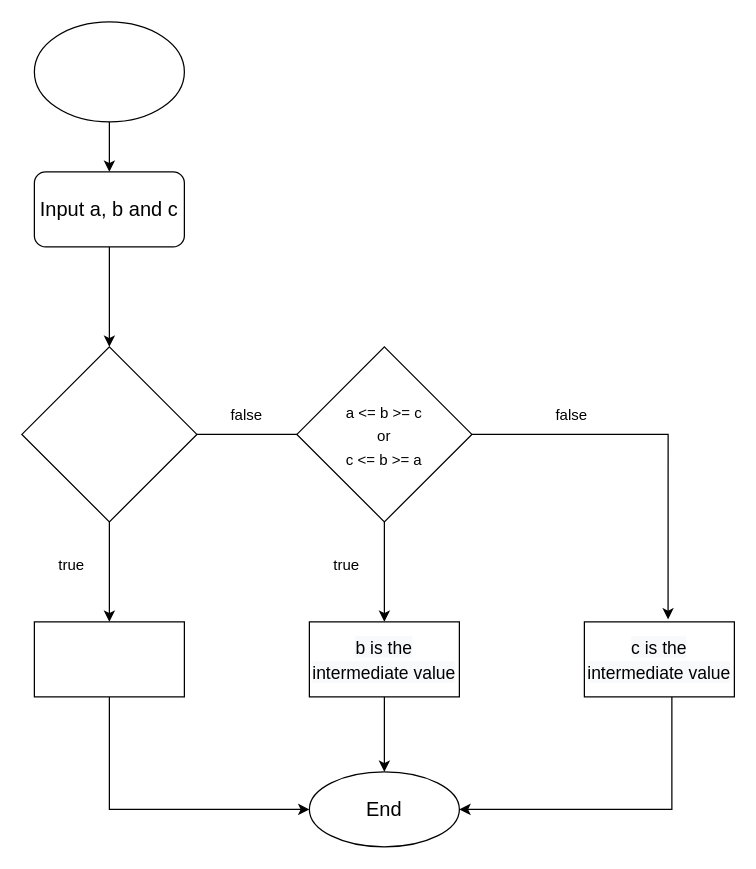
The diagram is 756 pixels wide and 869 high, and some of its shapes have lost their labels. Here are the shapes that lost their labels. From the top down, the centre of each, then its label:
the point at 108,71: Start
the point at 109,434: b <= a >= c or c <= a >= b
the point at 108,659: a is the intermediate value
